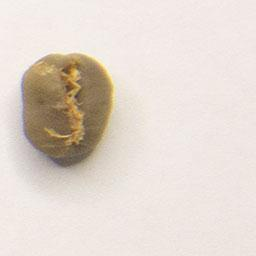peaberry: (18, 52, 116, 163)
